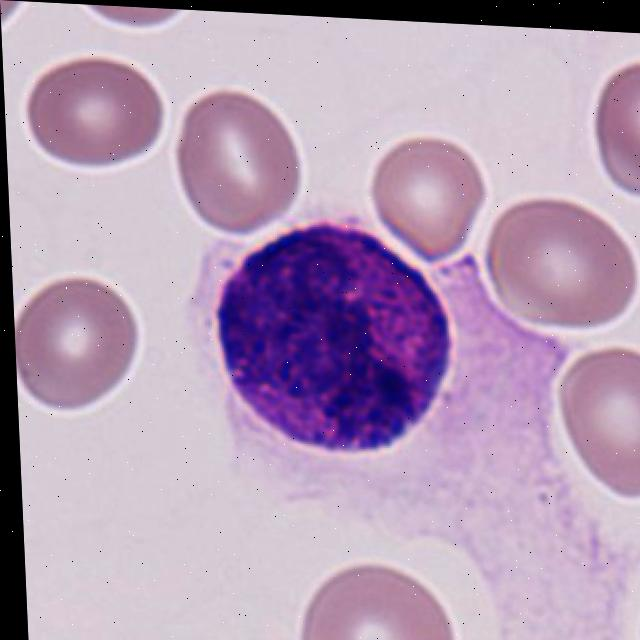basophil: (195, 222, 465, 470)
rbc: (483, 181, 640, 339), (172, 85, 312, 248), (13, 276, 158, 418), (21, 53, 168, 189), (374, 125, 482, 281), (290, 556, 472, 640), (548, 347, 640, 502), (586, 52, 640, 202), (83, 4, 212, 55), (0, 0, 41, 37), (628, 587, 640, 640)
